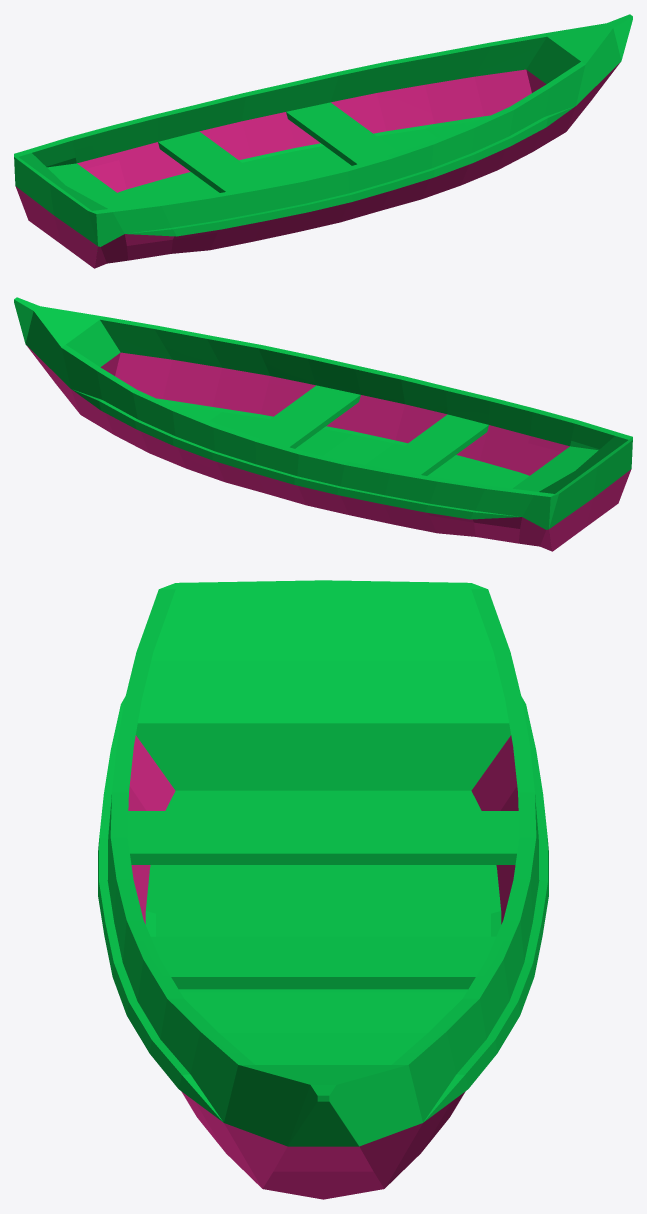
File: boatboat.obj
The picture shows the model from 3 angles, top to bottom: view 1: azimuth 30°, elevation 25°; view 2: azimuth 150°, elevation 25°; view 3: azimuth 270°, elevation 25°; orthographic projection. The views are drawn at different scales.
Parts seen in each view (by area): view 1: Boat_Cube.001; view 2: Boat_Cube.001; view 3: Boat_Cube.001.
Boxes of the visible parts, left/top/right/bottom form: Boat_Cube.001: left=14, top=14, right=632, bottom=268; Boat_Cube.001: left=14, top=297, right=632, bottom=551; Boat_Cube.001: left=98, top=580, right=548, bottom=1199.
Bounding box in the file's own units: 8.24 × 1.27 × 2.77.
